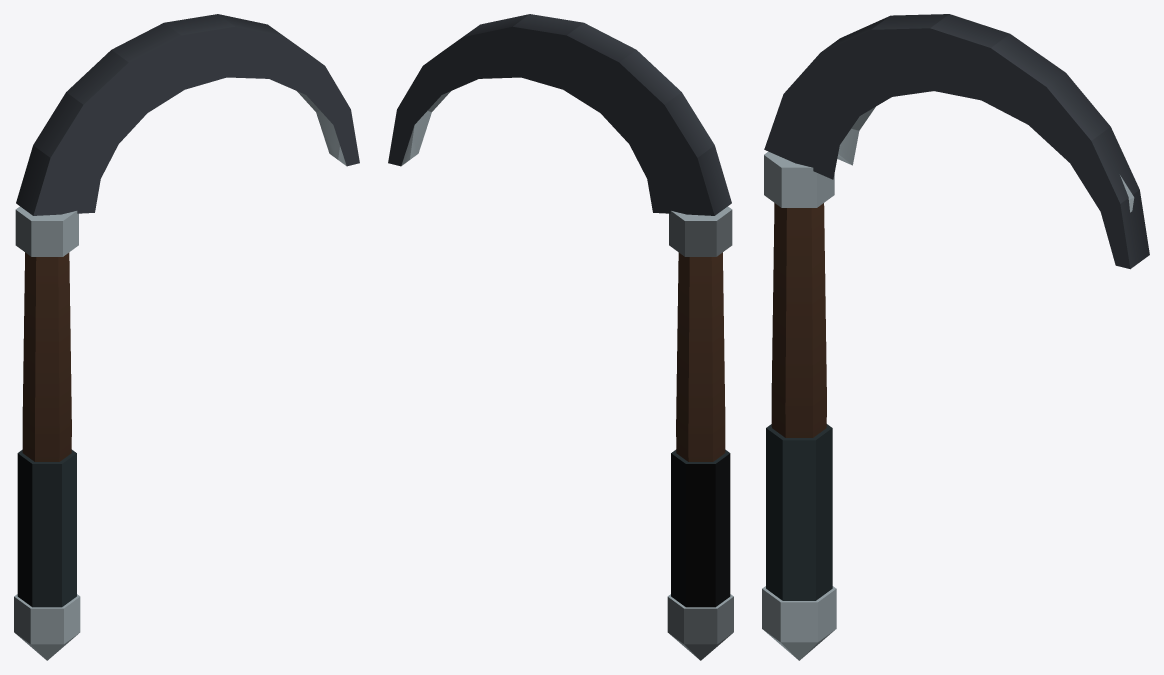
The model's file is rogue_sickles_1.gltf.
3 views of the same model, side by side, from view 1: azimuth 30°, elevation 25°; view 2: azimuth 150°, elevation 25°; view 3: azimuth 330°, elevation 25° (orthographic). The views are drawn at different scales.
Visible parts, largest first — view 1: rogue_sickles_1; view 2: rogue_sickles_1; view 3: rogue_sickles_1.
Part boxes in pixels (box(x1,y1,x2,y2)): rogue_sickles_1: box(14, 14, 359, 660); rogue_sickles_1: box(388, 14, 733, 660); rogue_sickles_1: box(762, 14, 1149, 660).
Size of the model in its own units: 0.4804 by 0.8391 by 0.084.
Materials: 1 (1 with a texture image).
